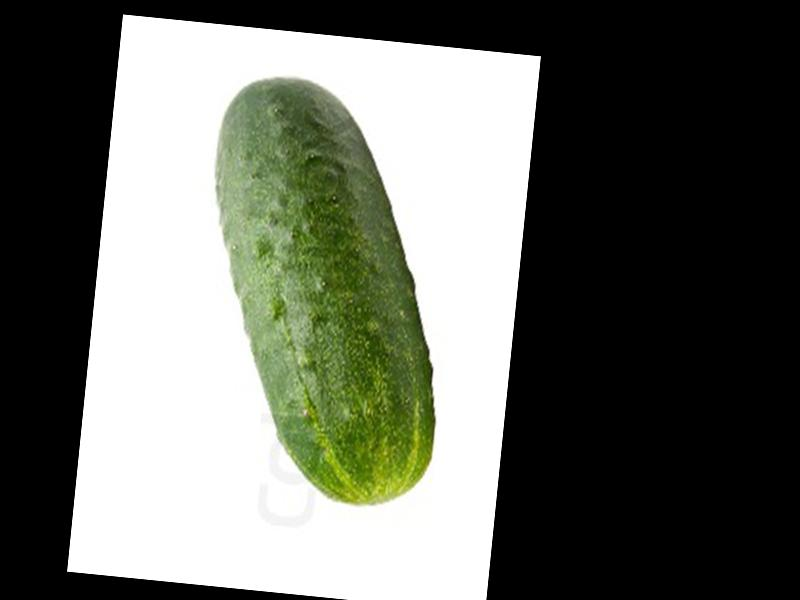Cucumber: (181, 71, 464, 512)
